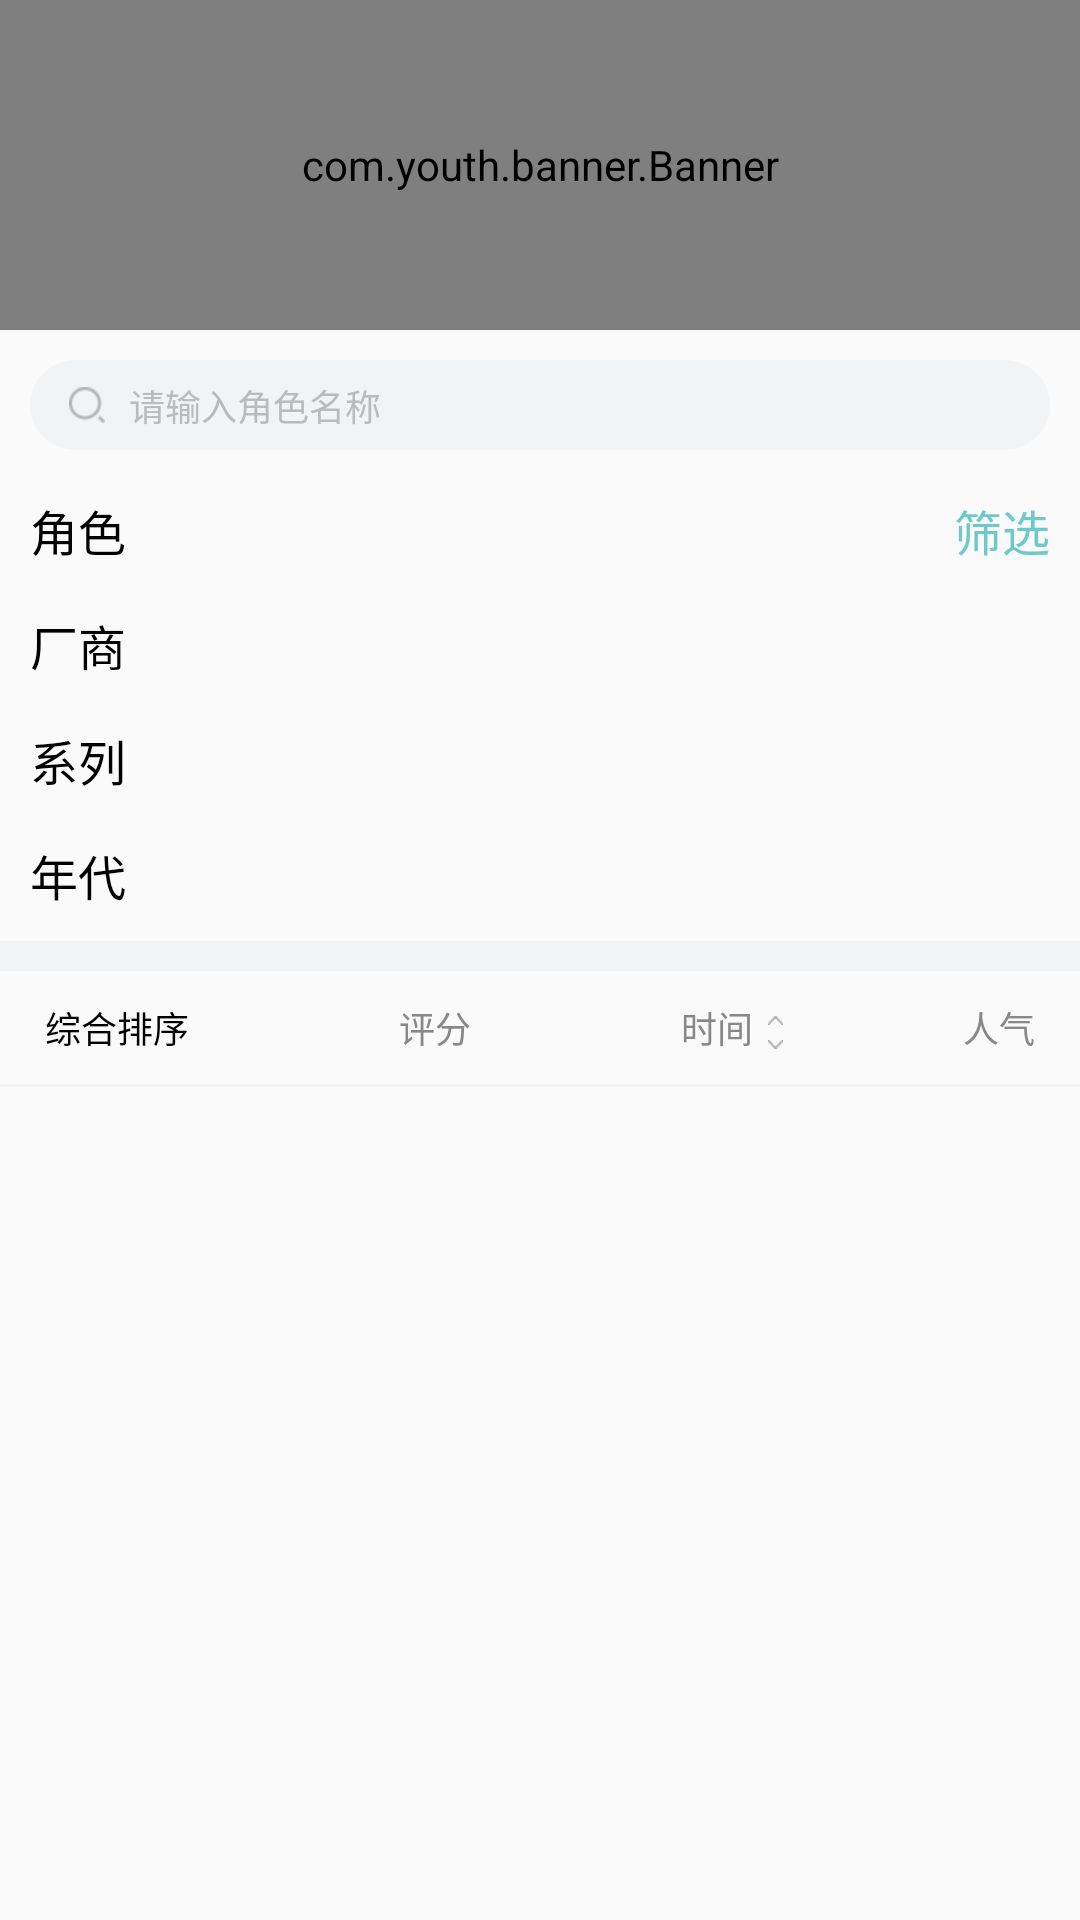

Where to tap for icons on this 1080w x 1920h app screen, as (x,y):
search: (87,405)
